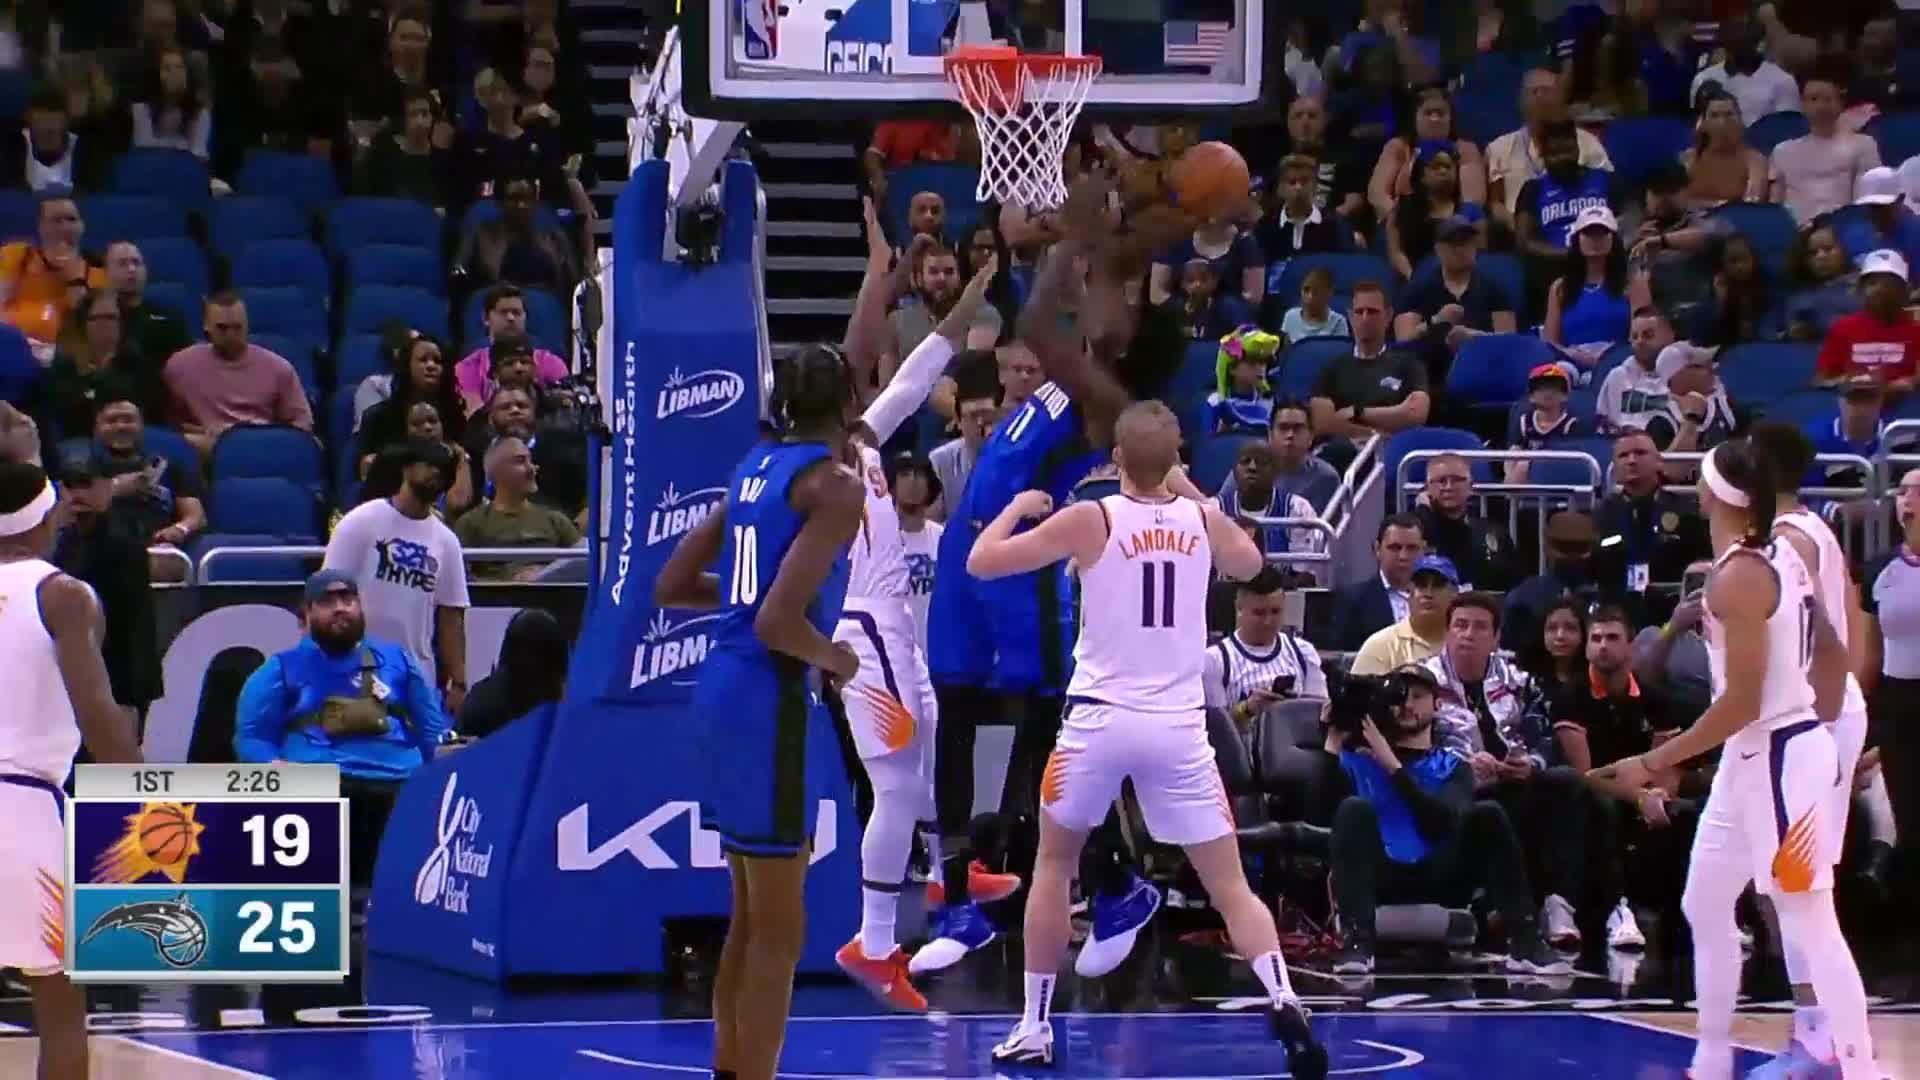basketball: (1166, 135, 1257, 239)
basketball_photographer: (1331, 661, 1574, 1026)
basketball_player: (648, 326, 922, 1080), (1018, 422, 1314, 1080), (1627, 448, 1866, 1080)
basketball_supporter: (314, 439, 496, 722), (1422, 609, 1579, 809), (1474, 61, 1622, 218), (157, 287, 292, 453), (1366, 79, 1492, 257), (5, 192, 118, 361)
